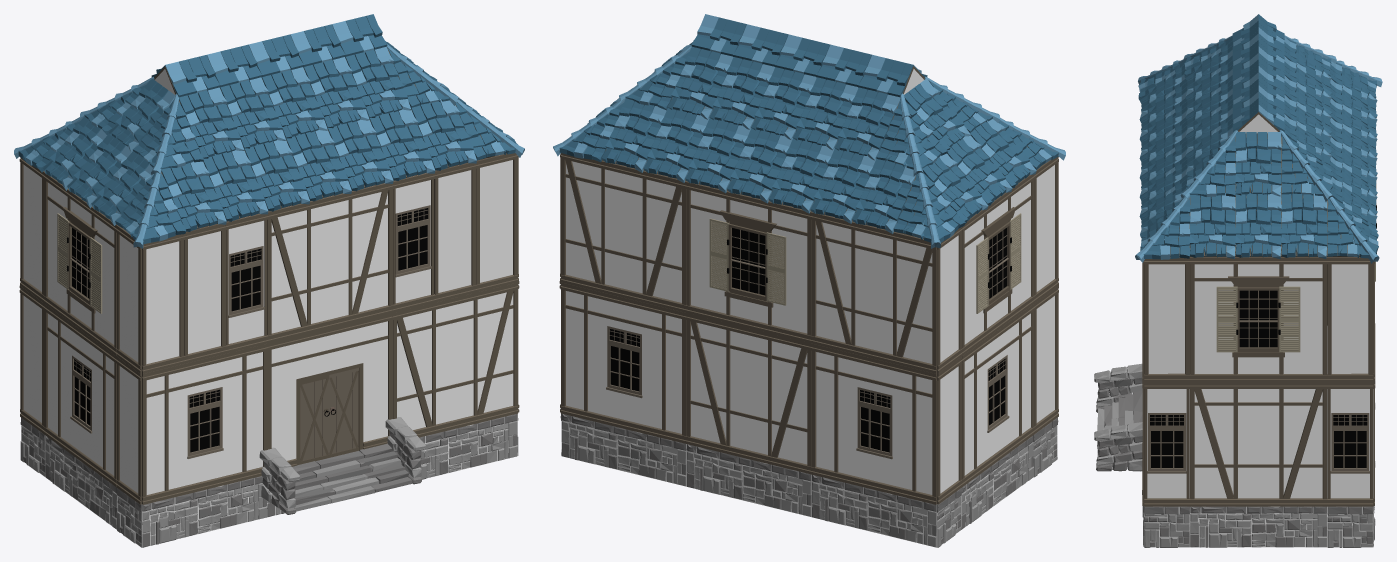
The model's file is House_13_full.fbx.
3 views of the same model, side by side, from view 1: azimuth 30°, elevation 25°; view 2: azimuth 150°, elevation 25°; view 3: azimuth 270°, elevation 25° (orthographic). The views are drawn at different scales.
Visible parts, largest first — view 1: WALL_02_7, WINDOW_03_2, WALL_02_2, DOOR_03_2, WINDOW_07_5, WINDOW_03_3, STAIRS_02_2, WALL_03_10, WALL_03_9, WALL_03_12, WALL_03_11, WINDOW_04_5 (+37 smaller); view 2: WINDOW_07_4, WALL_02_5, WINDOW_03_5, WINDOW_03_4, WALL_02_4, WALL_02_6, WINDOW_07_5, WINDOW_03_3, FOUNDATION_02_29, FOUNDATION_02_30, FOUNDATION_02_28, WALL_03_4 (+33 smaller); view 3: WINDOW_07_3, WALL_02_3, WALL_03_8, WINDOW_04_4, FOUNDATION_02_31, WINDOW_04_3, WALL_03_7, STAIRS_02_2, ROOF_base_33, ROOF_base_17, ROOF_base_34, ROOF_base_16 (+47 smaller).
Boxes of the visible parts, bbox=[...] form: WALL_02_7: bbox=[267, 183, 393, 343]; WINDOW_03_2: bbox=[142, 343, 267, 504]; WALL_02_2: bbox=[392, 282, 518, 437]; DOOR_03_2: bbox=[267, 313, 393, 466]; WINDOW_07_5: bbox=[43, 172, 117, 355]; WINDOW_03_3: bbox=[43, 303, 117, 486]; STAIRS_02_2: bbox=[259, 417, 425, 514]; WALL_03_10: bbox=[434, 163, 476, 302]; WALL_03_9: bbox=[476, 153, 518, 292]; WALL_03_12: bbox=[142, 234, 184, 373]; WALL_03_11: bbox=[184, 224, 226, 363]; WINDOW_04_5: bbox=[225, 213, 267, 353]; WINDOW_07_4: bbox=[685, 181, 811, 343]; WALL_02_5: bbox=[811, 212, 936, 373]; WINDOW_03_5: bbox=[560, 282, 686, 443]; WINDOW_03_4: bbox=[811, 343, 936, 504]; WALL_02_4: bbox=[685, 313, 811, 474]; WALL_02_6: bbox=[560, 153, 686, 312]; WINDOW_07_5: bbox=[961, 174, 1034, 355]; WINDOW_03_3: bbox=[961, 303, 1034, 486]; FOUNDATION_02_29: bbox=[686, 444, 811, 517]; FOUNDATION_02_30: bbox=[561, 413, 686, 486]; FOUNDATION_02_28: bbox=[812, 474, 937, 547]; WALL_03_4: bbox=[937, 356, 962, 504]; WINDOW_07_3: bbox=[1190, 257, 1327, 382]; WALL_02_3: bbox=[1190, 382, 1327, 506]; WALL_03_8: bbox=[1327, 257, 1373, 382]; WINDOW_04_4: bbox=[1327, 382, 1373, 506]; FOUNDATION_02_31: bbox=[1190, 506, 1327, 547]; WINDOW_04_3: bbox=[1144, 382, 1189, 506]; WALL_03_7: bbox=[1144, 257, 1189, 382]; STAIRS_02_2: bbox=[1094, 363, 1142, 471]; ROOF_base_33: bbox=[1235, 193, 1281, 259]; ROOF_base_17: bbox=[1281, 193, 1327, 259]; ROOF_base_34: bbox=[1235, 132, 1281, 196]; ROOF_base_16: bbox=[1189, 193, 1235, 259].
Bounding box in the file's own units: 941 × 959 × 629.
